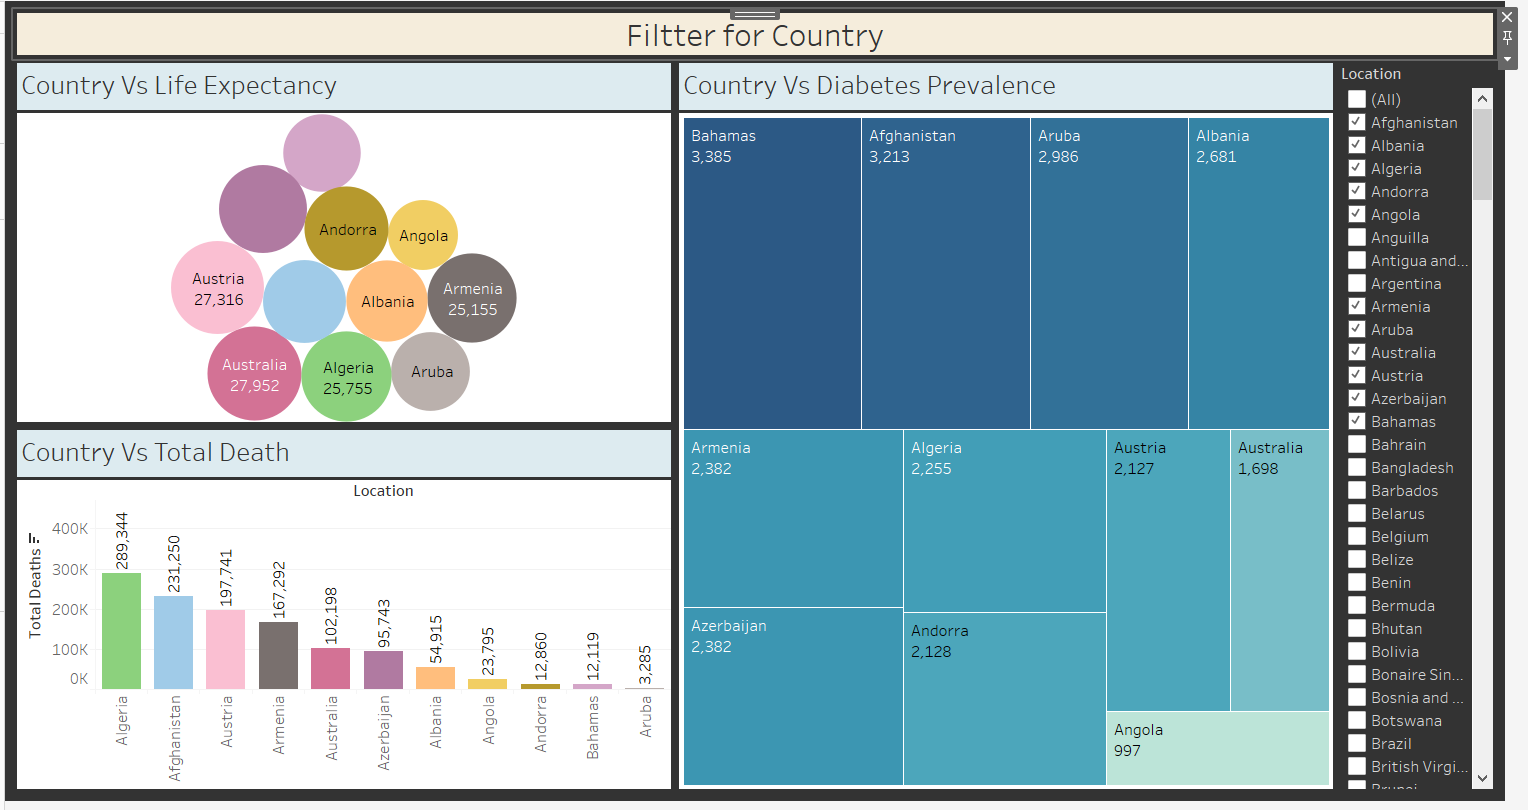

The page's visual inventory and layout, read from the dashboard file:
{"tool":"tableau","page":{"name":"Filtter for country ","canvas":[1500,800],"ordinal":0},"visuals":[{"type":"worksheet","box":[0,0,1500,800]},{"type":"worksheet","param":"vert","box":[8,8,1484,784]},{"type":"worksheet","box":[8,8,1484,50]},{"type":"worksheet","param":"horz","box":[8,58,1484,734]},{"type":"worksheet","box":[8,58,1324,734]},{"type":"worksheet","title":"Country Vs Life Expectancy","mark":"Circle","box":[8,58,662,367]},{"type":"worksheet","title":"Country Vs Diabetes Prevalence","mark":"Automatic","box":[670,58,662,734]},{"type":"worksheet","param":"vert","box":[1332,58,160,734]},{"type":"worksheet","title":"Country Vs Life Expectancy","mark":"Circle","param":"[federated.0dsscqg1vu7paa1h94muc19vwntl].[none:location:nk]","box":[1332,58,160,734]},{"type":"worksheet","title":"Country Vs Total Death","mark":"Automatic","rows":["total_deaths"],"cols":["location"],"box":[8,425,662,367]}]}

Visuals, with their boxes in screenshot pixels (x1, y1, x2, y2):
worksheet: {"x1": 0, "y1": 0, "x2": 1501, "y2": 797}
worksheet: {"x1": 8, "y1": 4, "x2": 1493, "y2": 789}
worksheet: {"x1": 8, "y1": 4, "x2": 1493, "y2": 54}
worksheet: {"x1": 8, "y1": 54, "x2": 1493, "y2": 789}
worksheet: {"x1": 8, "y1": 54, "x2": 1333, "y2": 789}
"Country Vs Life Expectancy" worksheet (Circle marks): {"x1": 8, "y1": 54, "x2": 670, "y2": 421}
"Country Vs Diabetes Prevalence" worksheet: {"x1": 670, "y1": 54, "x2": 1333, "y2": 789}
worksheet: {"x1": 1333, "y1": 54, "x2": 1493, "y2": 789}
"Country Vs Life Expectancy" worksheet (Circle marks): {"x1": 1333, "y1": 54, "x2": 1493, "y2": 789}
"Country Vs Total Death" worksheet: {"x1": 8, "y1": 421, "x2": 670, "y2": 789}
